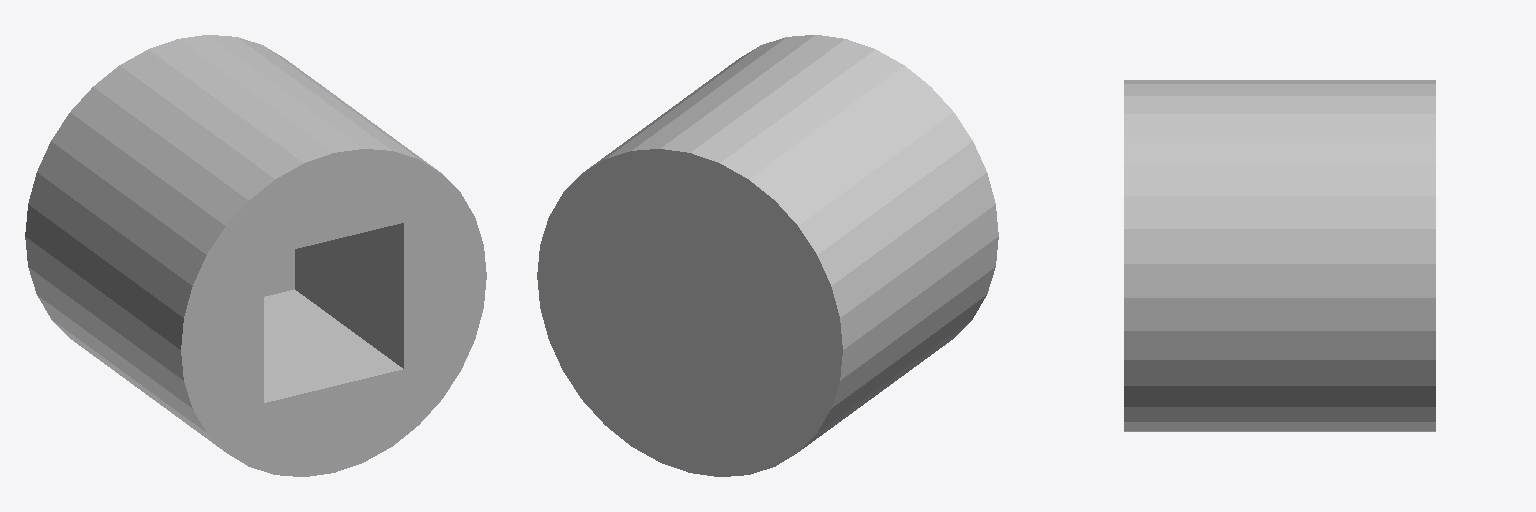
File: square.obj
3 views of the same model, side by side, from view 1: azimuth 30°, elevation 25°; view 2: azimuth 150°, elevation 25°; view 3: azimuth 270°, elevation 25° (orthographic).
Visible parts, largest first — view 1: slot_square; view 2: slot_square; view 3: slot_square.
Part boxes in pixels (x1,y1,x2,y2): slot_square: (25,35,486,476); slot_square: (537,35,998,476); slot_square: (1124,80,1435,431).
Bounding box in the file's own units: 0.034 × 0.034 × 0.03.